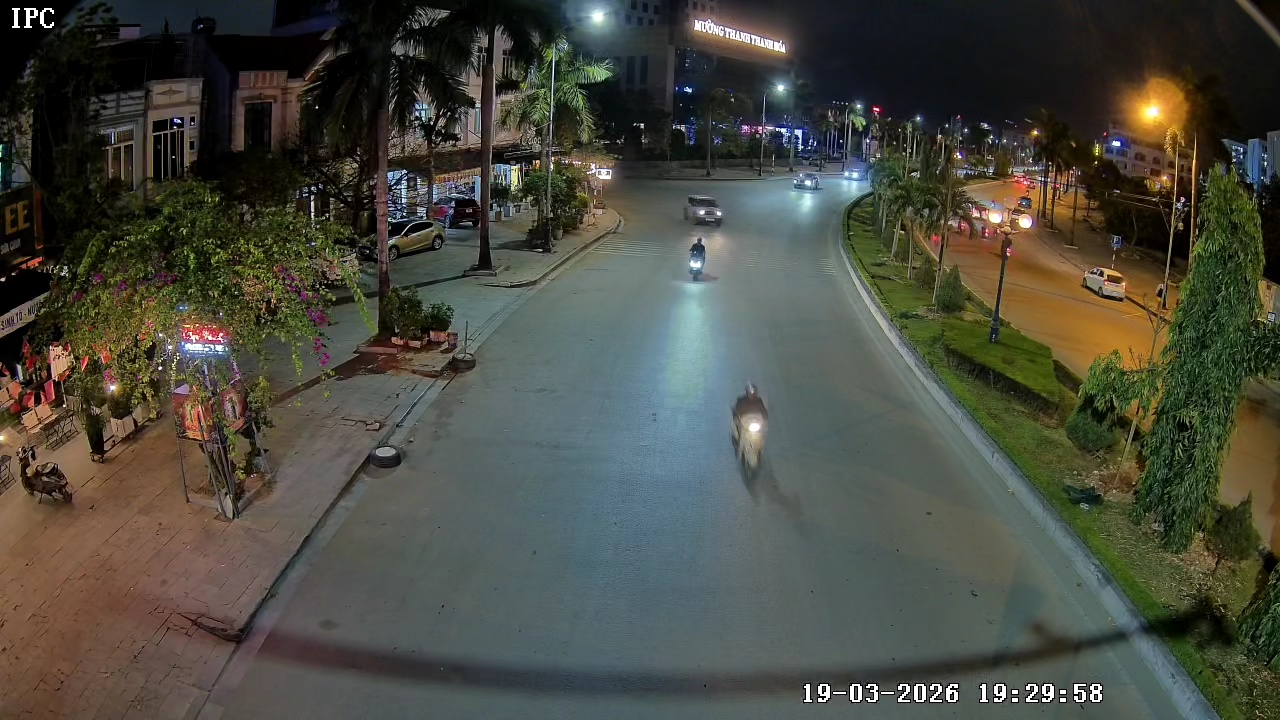car: (683, 193, 725, 228)
motorbike: (728, 380, 771, 486), (686, 236, 709, 282)
